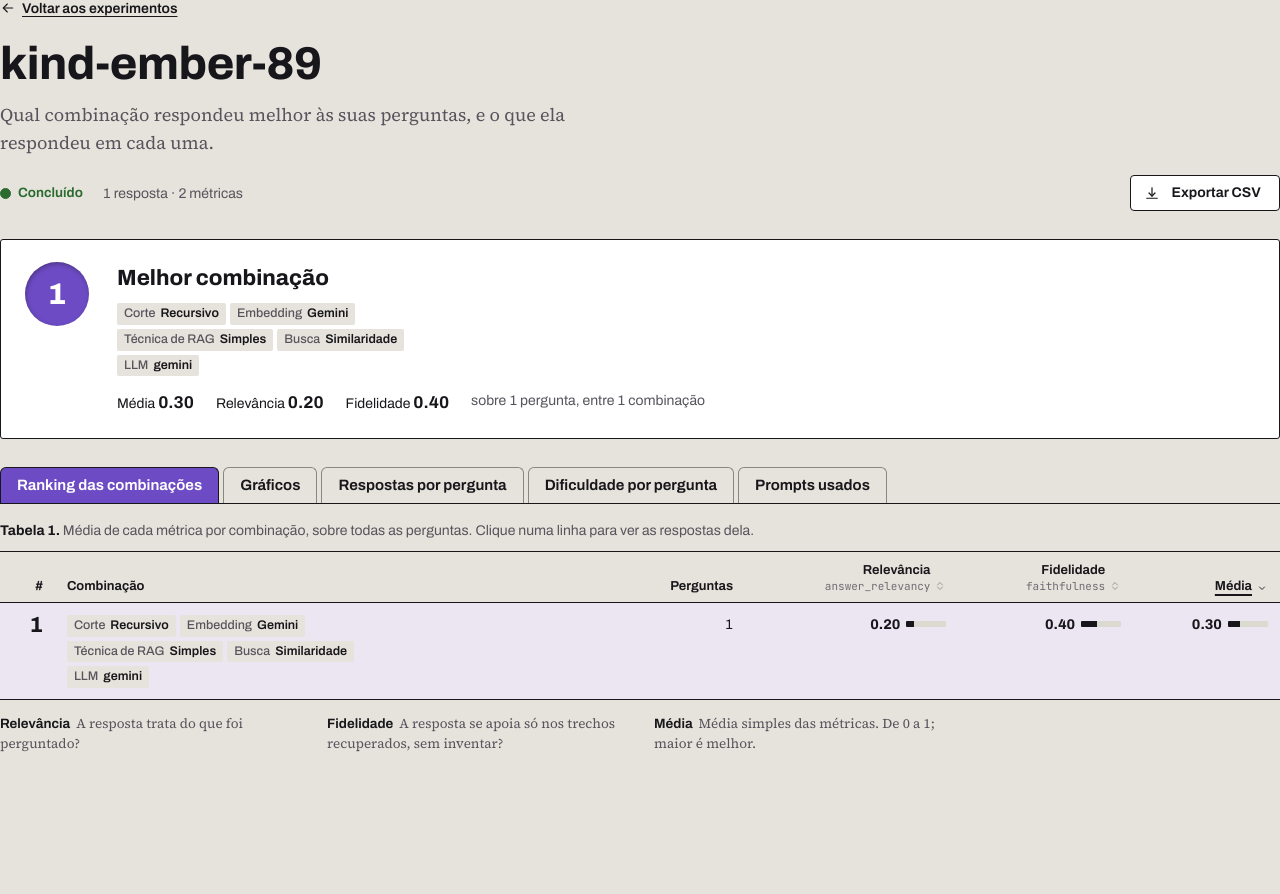
Test: ExperimentDetailPage › an answer with retrieved chunks › lists the chunks the answer was generated from, in rank order
Click the tab "Respostas por pergunta".
click(422, 485)  # box [321, 467, 524, 503]
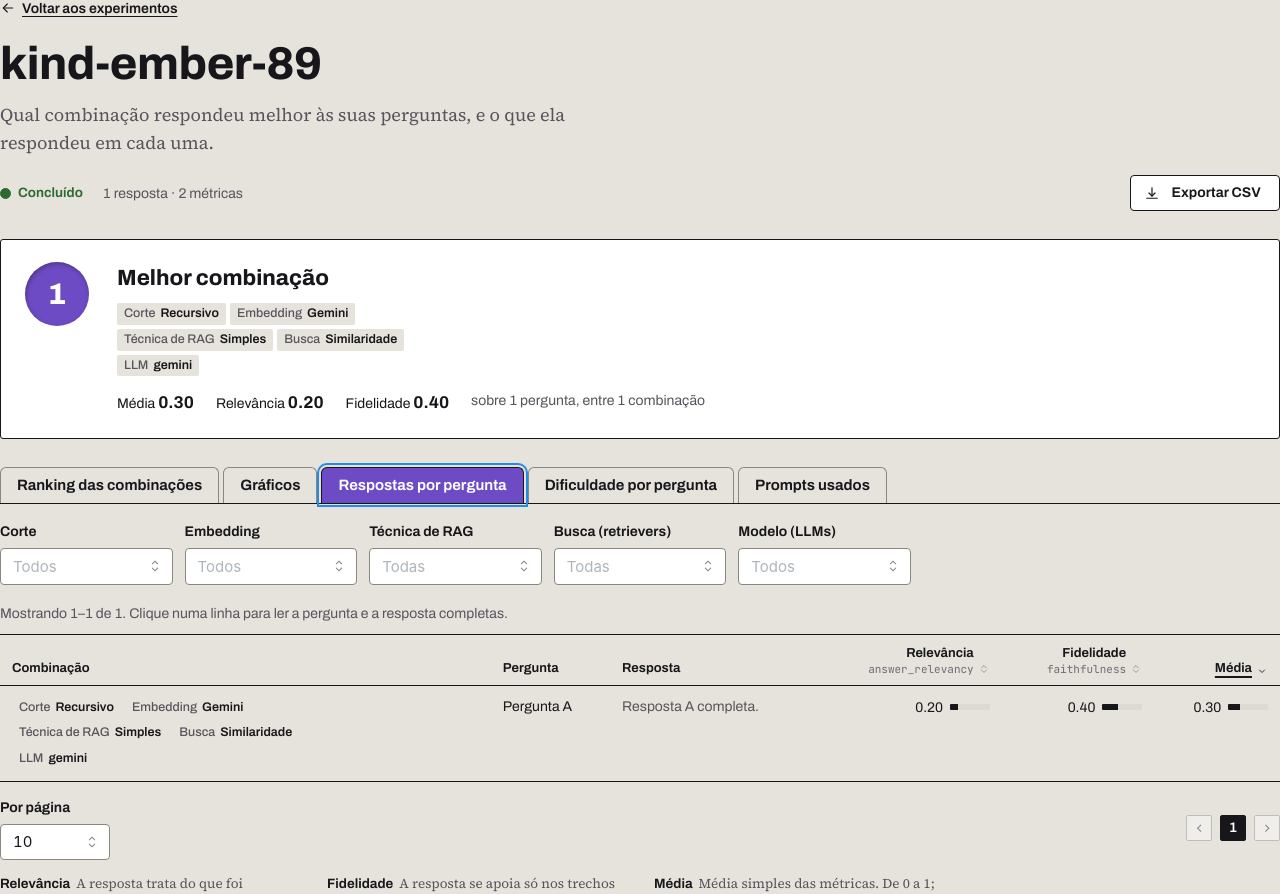
Click the button "Pergunta A".
click(537, 706)  # box [503, 697, 572, 716]
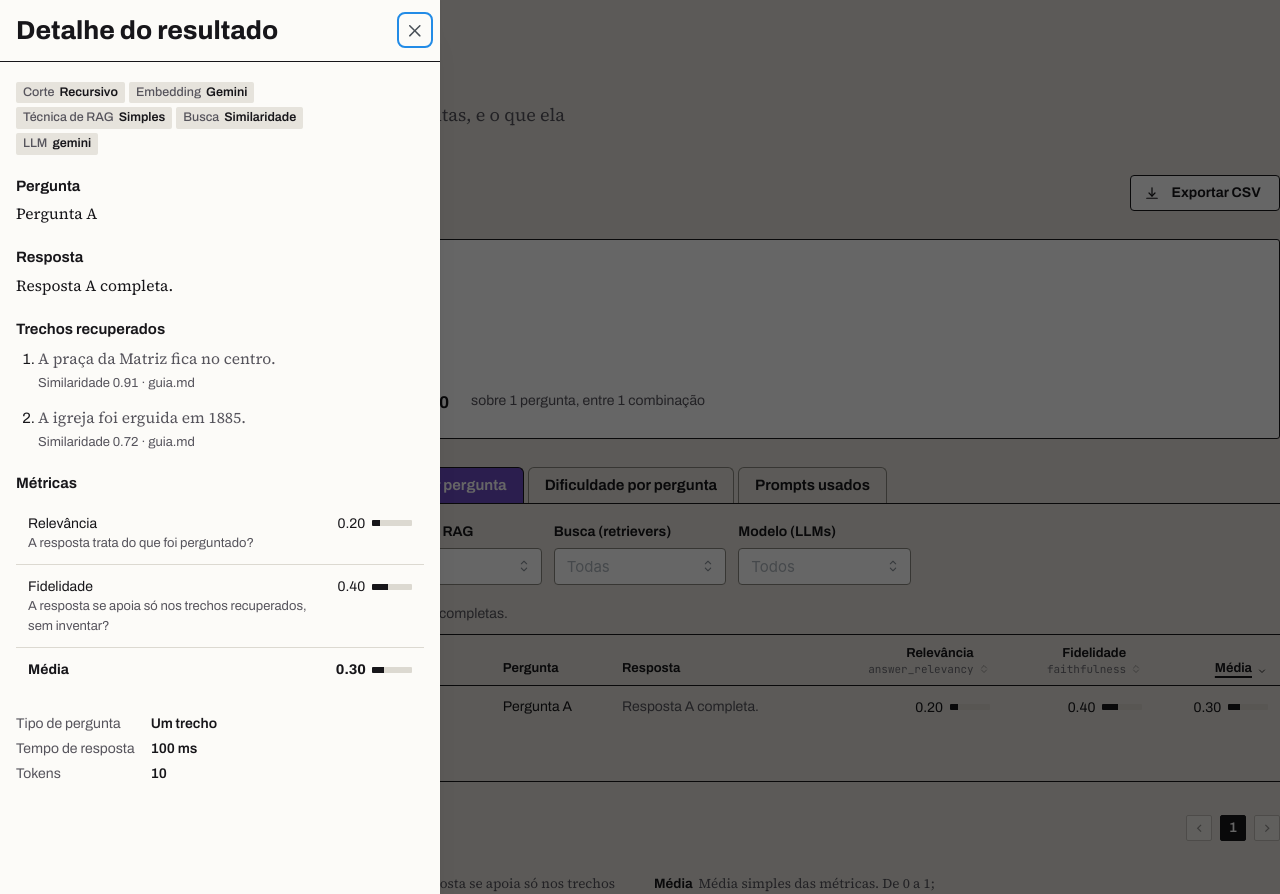
Now the number of list items is 2, box [38, 348, 276, 390]; [38, 407, 246, 449]
Now the list item that starts with "A praça da Matriz fica no centro." is shown, box [38, 348, 276, 369]
Now the list item that starts with "A praça da Matriz fica no centro." shows "0.91", box [38, 376, 138, 390]
